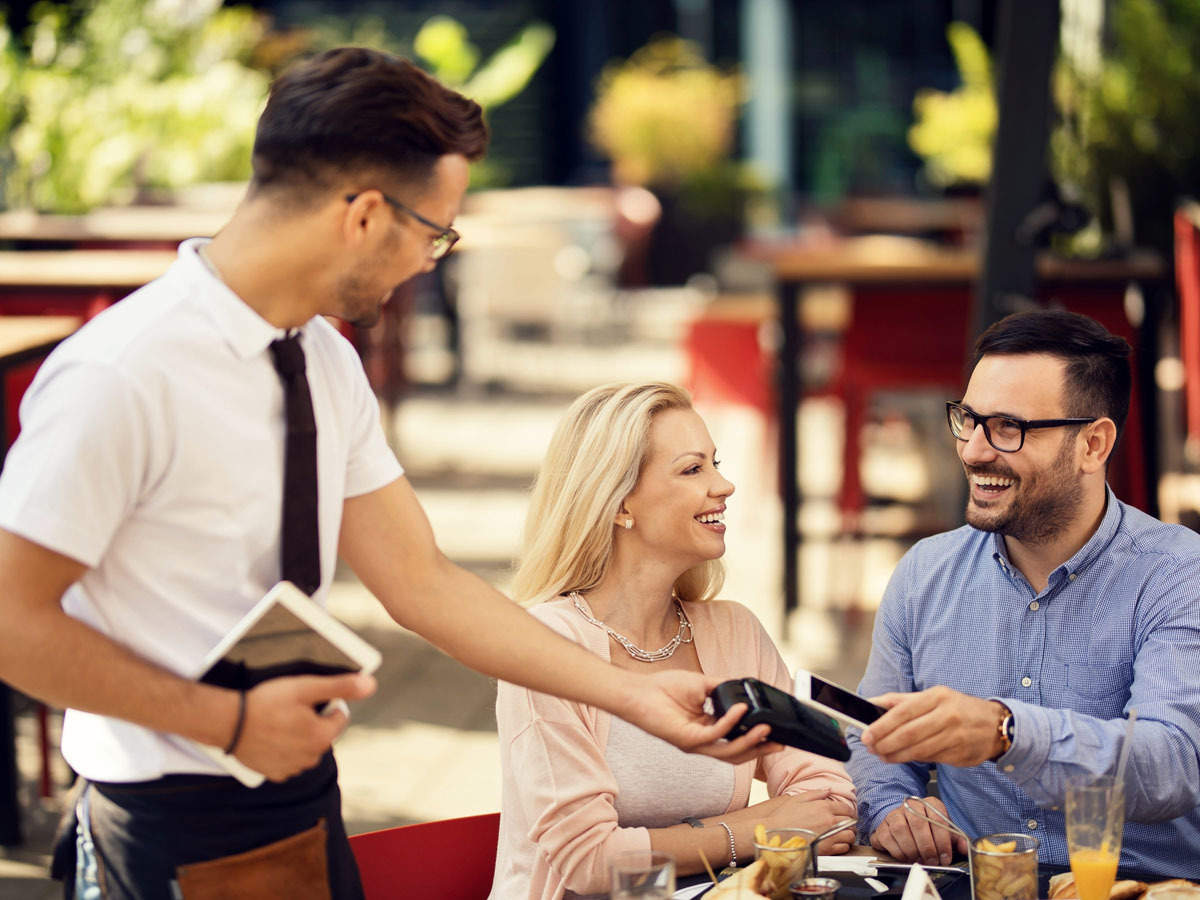without_mask: (944, 385, 1057, 541), (624, 428, 730, 557)
